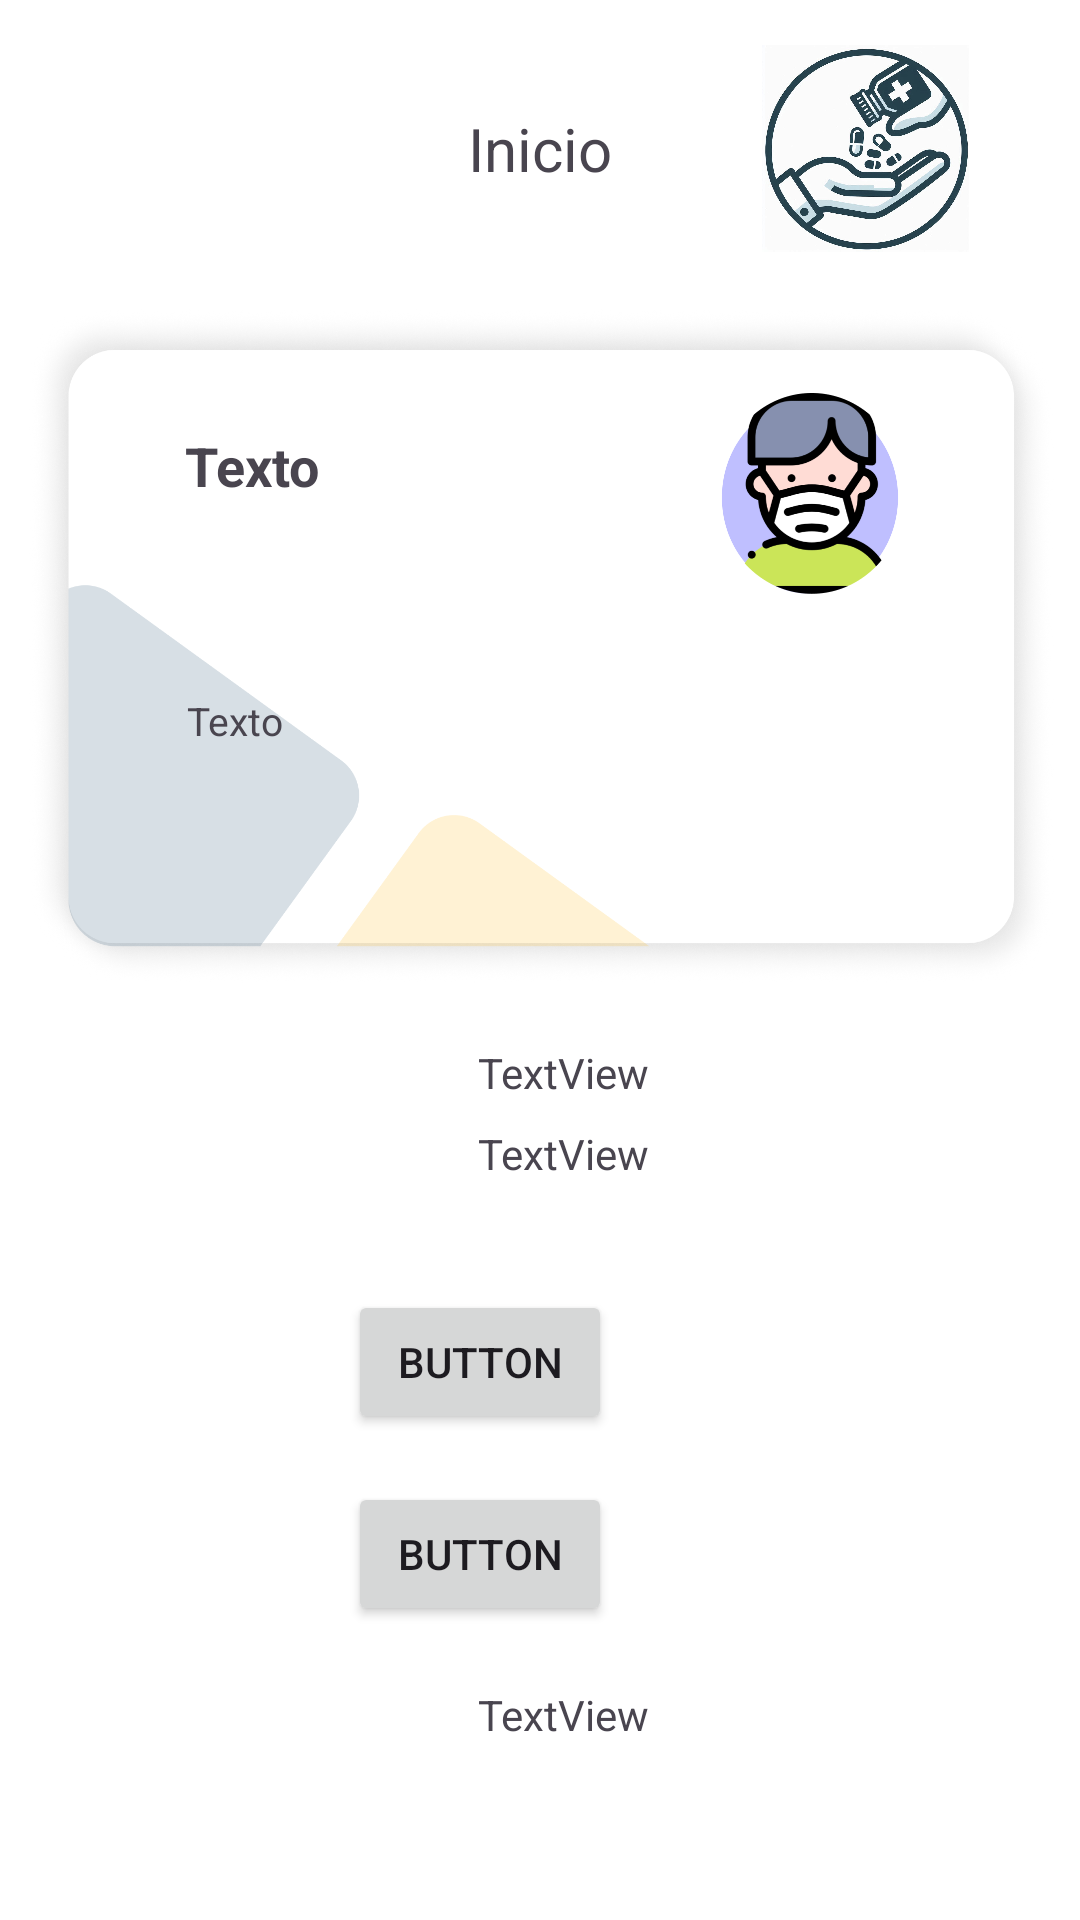

Icon bounding boxes for this 1080px×1920px phone screenshot, format (x1, y1, x2, y2):
defaultuser: (722, 393, 898, 594)
